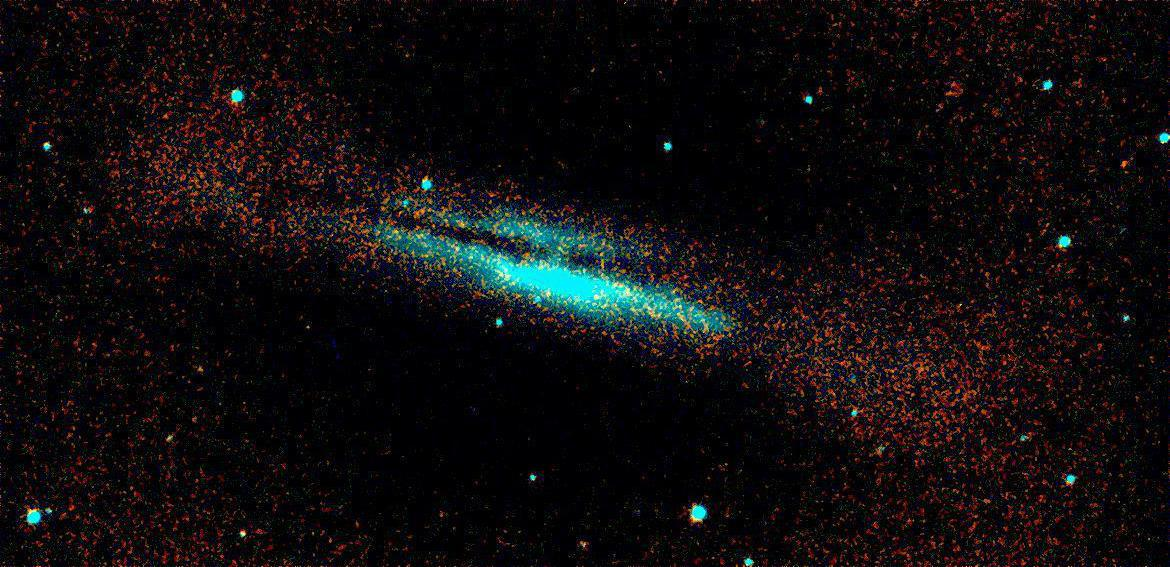star: (1115, 146, 1145, 176)
